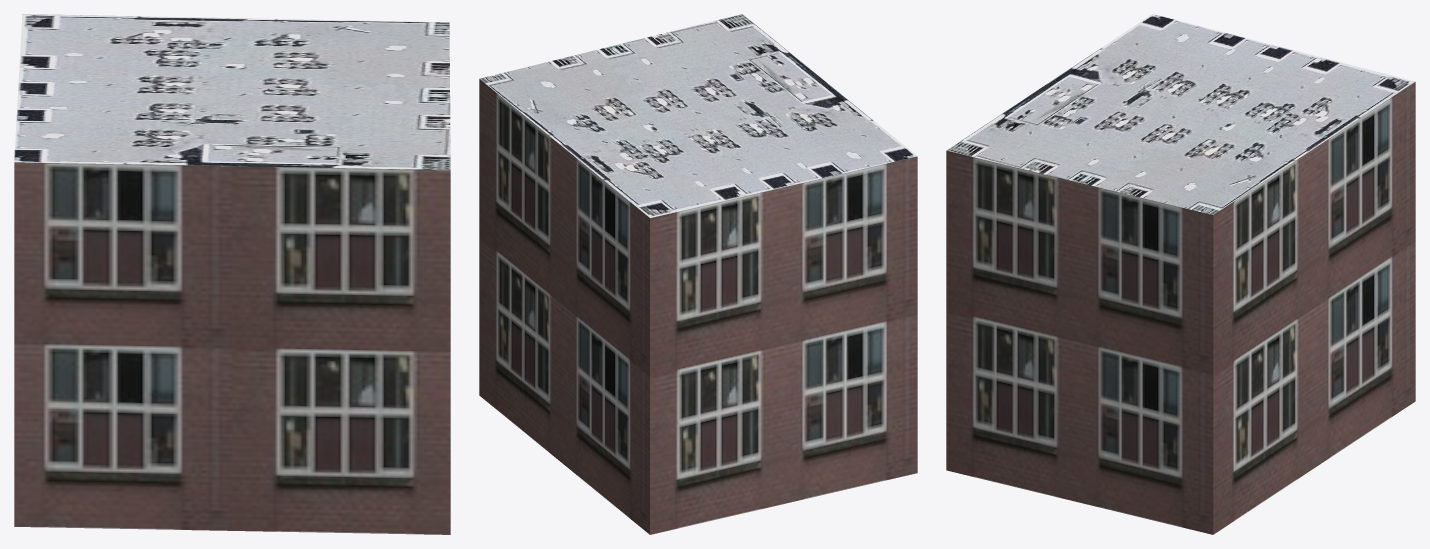
Rendered from ResTex__559.fbx.
3 views of the same model, side by side, from view 1: azimuth 30°, elevation 25°; view 2: azimuth 150°, elevation 25°; view 3: azimuth 270°, elevation 25° (orthographic). The views are drawn at different scales.
Visible parts, largest first — view 1: CityEngineMaterial_12_m, CityEngineMaterial_4_m; view 2: CityEngineMaterial_12_m, CityEngineMaterial_4_m; view 3: CityEngineMaterial_12_m, CityEngineMaterial_4_m.
Boxes of the visible parts, x1=… form: CityEngineMaterial_12_m: x1=14, y1=162, x2=450, y2=534; CityEngineMaterial_4_m: x1=14, y1=14, x2=450, y2=170; CityEngineMaterial_12_m: x1=479, y1=79, x2=917, y2=534; CityEngineMaterial_4_m: x1=479, y1=14, x2=917, y2=217; CityEngineMaterial_12_m: x1=946, y1=82, x2=1415, y2=534; CityEngineMaterial_4_m: x1=947, y1=14, x2=1414, y2=214.
Bounding box in the file's own units: 8.09 × 6 × 7.98.
Materials: 2 (2 with a texture image).
